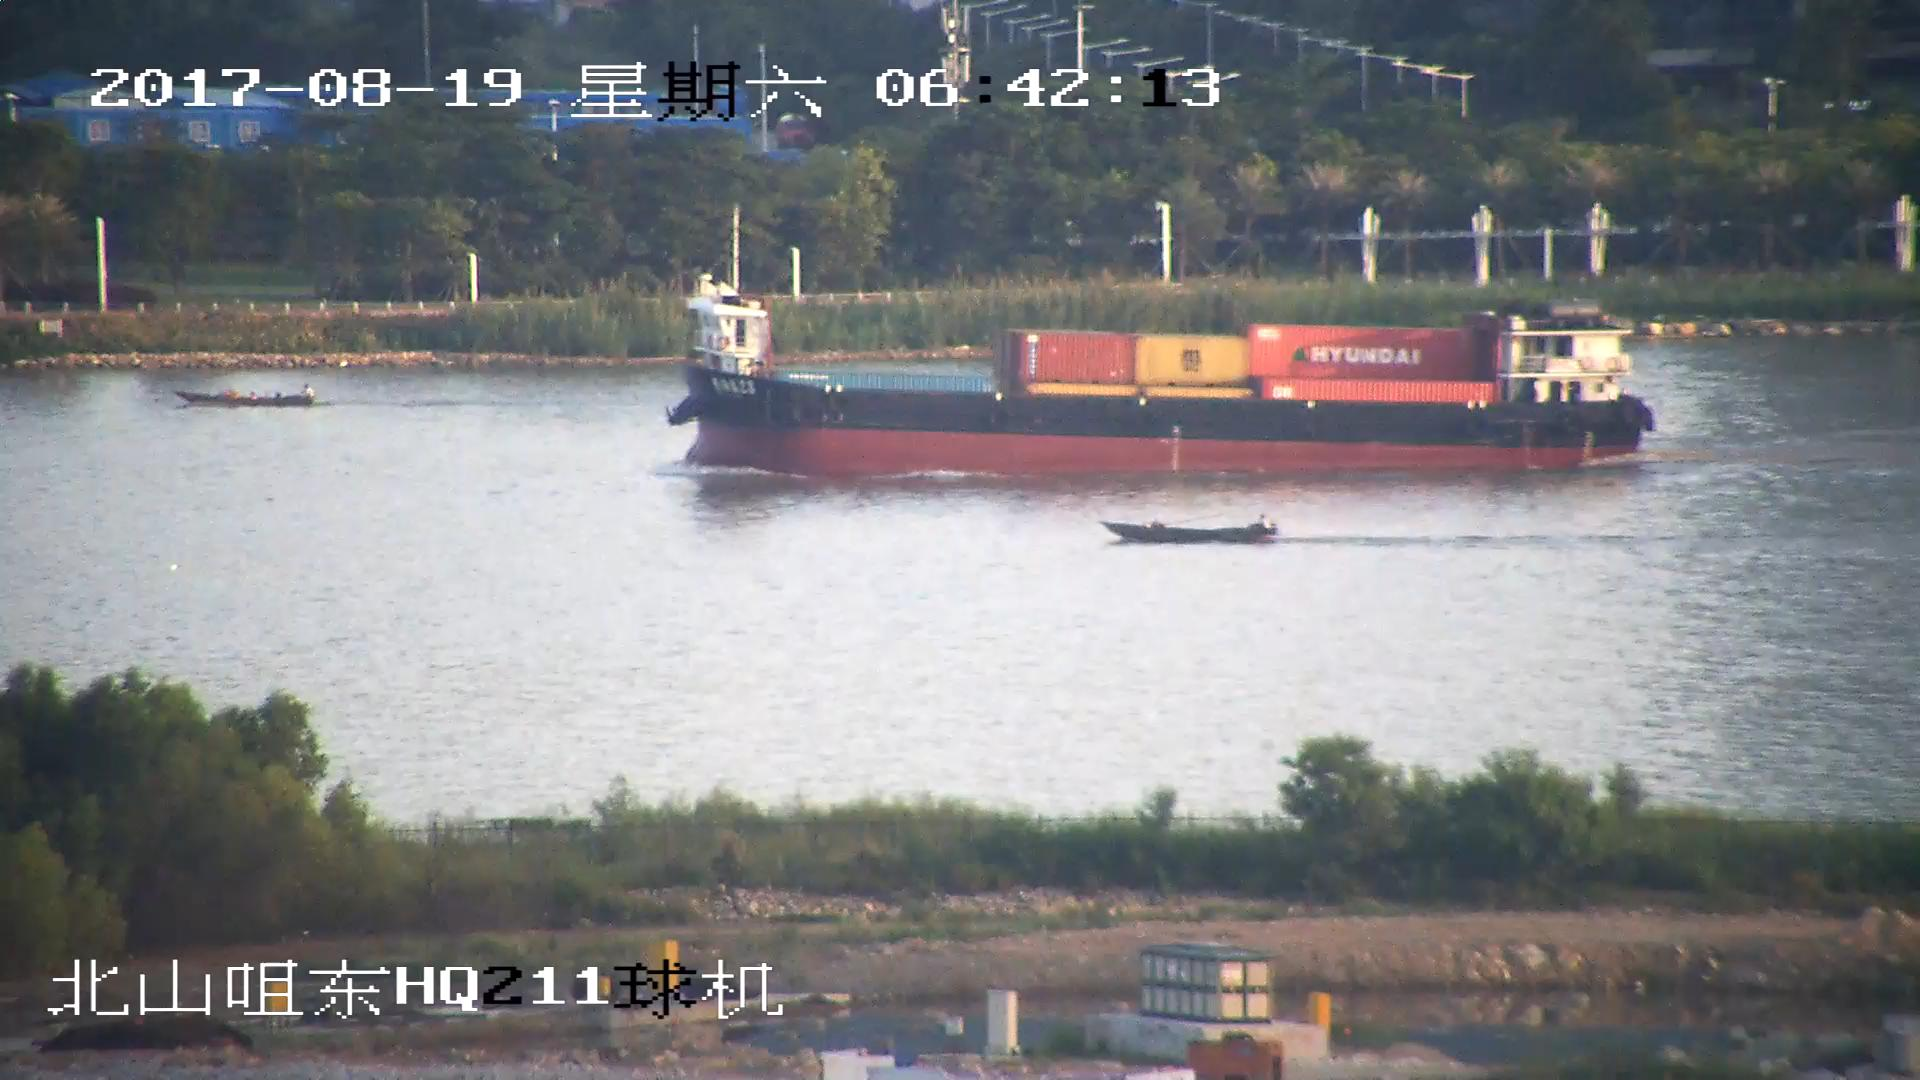container ship: (671, 260, 1654, 477)
fishing boat: (1103, 512, 1278, 550), (178, 377, 316, 409)
